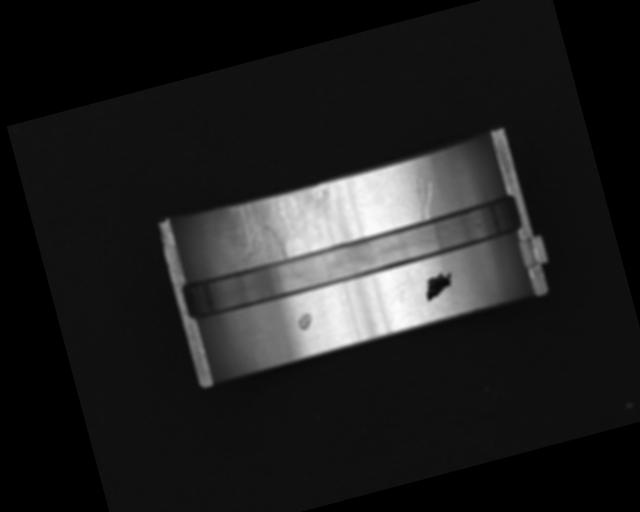blot: (420, 269, 456, 301)
bruise: (294, 311, 315, 333)
gap: (179, 194, 526, 323)
nick: (410, 173, 440, 221)
scratch: (217, 180, 343, 272)
